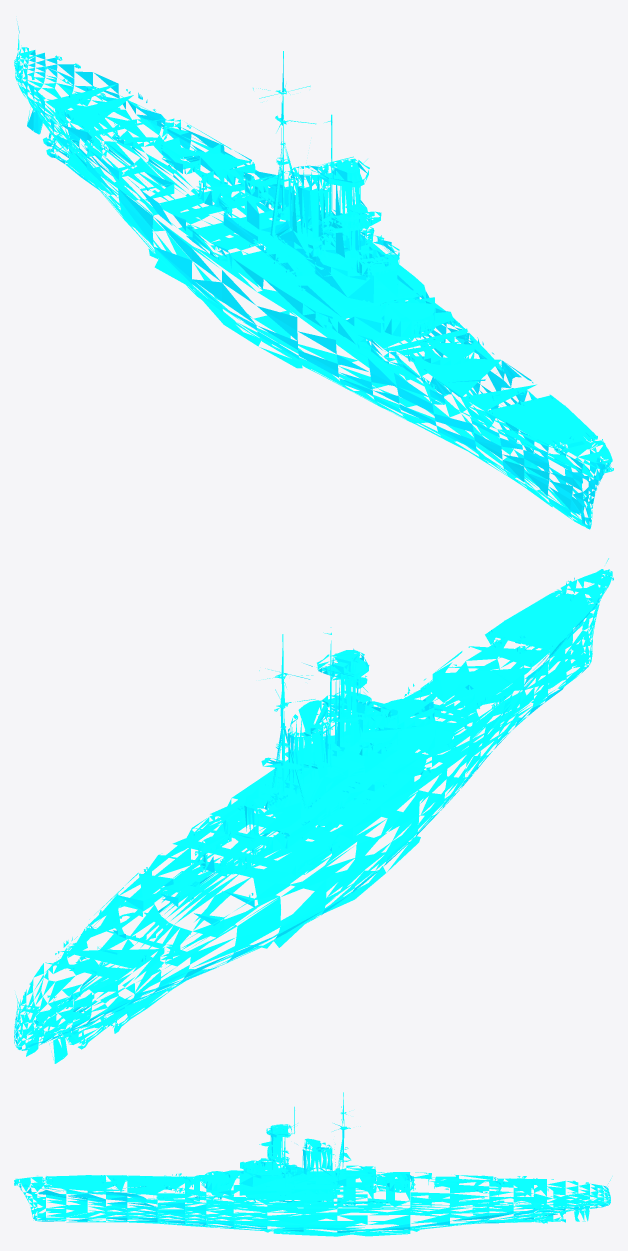
File: AZUR_Prinz_Heinrich.glb
3 renders of one model, top to bottom at view 1: azimuth 30°, elevation 25°; view 2: azimuth 150°, elevation 25°; view 3: azimuth 270°, elevation 25°, orthographic. The views are drawn at different scales.
Bounding box in the file's own units: 2.07 × 3.73 × 15.77.
